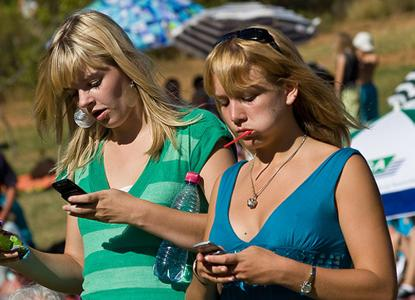person: (186, 25, 400, 300)
